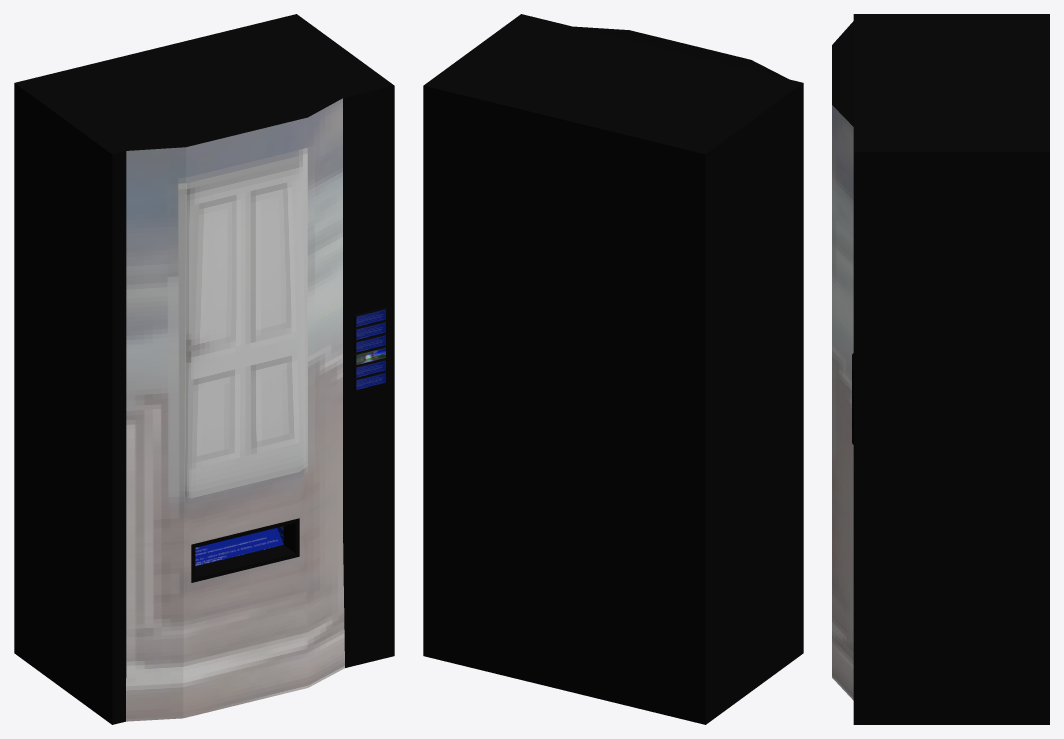
File: Door Machine FIX.fbx
The picture shows the model from 3 angles, left to right: view 1: azimuth 30°, elevation 25°; view 2: azimuth 150°, elevation 25°; view 3: azimuth 270°, elevation 25°; orthographic projection.
Visible parts, largest first — view 1: Cube; view 2: Cube; view 3: Cube.
Boxes of the visible parts, bbox=[...] form: Cube: bbox=[14, 14, 394, 724]; Cube: bbox=[423, 14, 803, 724]; Cube: bbox=[832, 14, 1049, 724].
Bounding box in the file's own units: 450 × 869 × 300.
4 materials, 3 textured.
